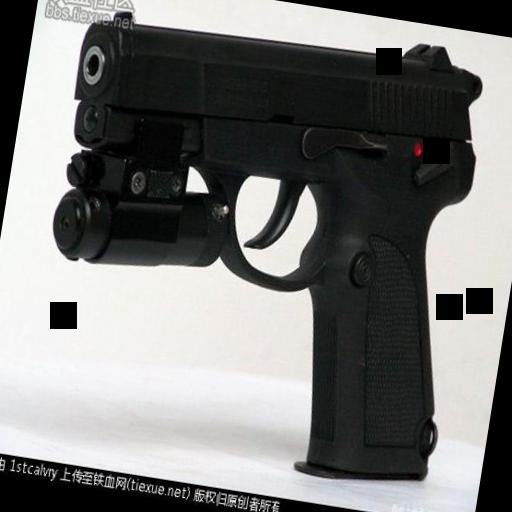Handgun: (16, 0, 498, 491)
